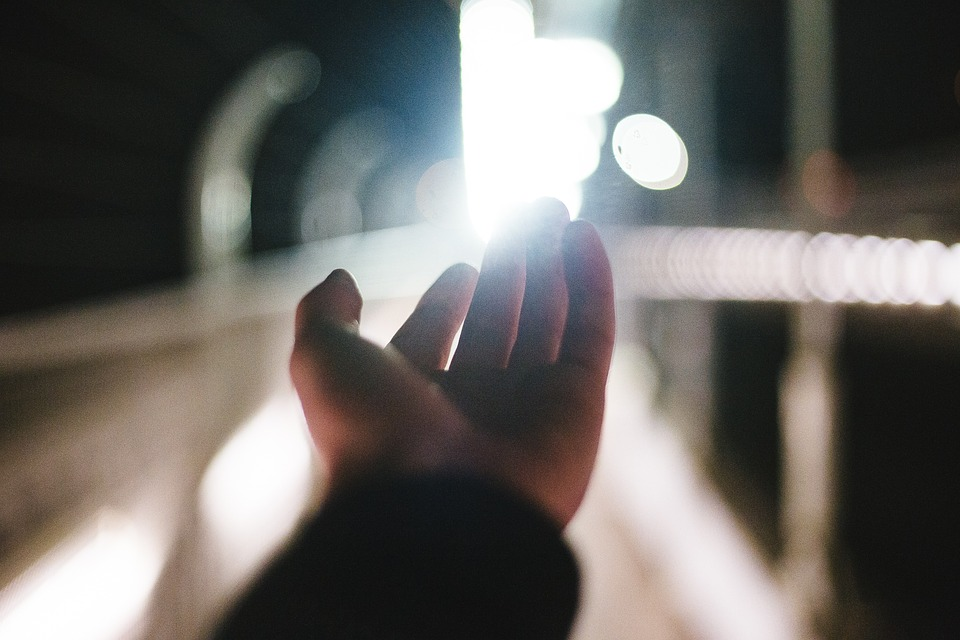hand: (280, 190, 638, 554)
